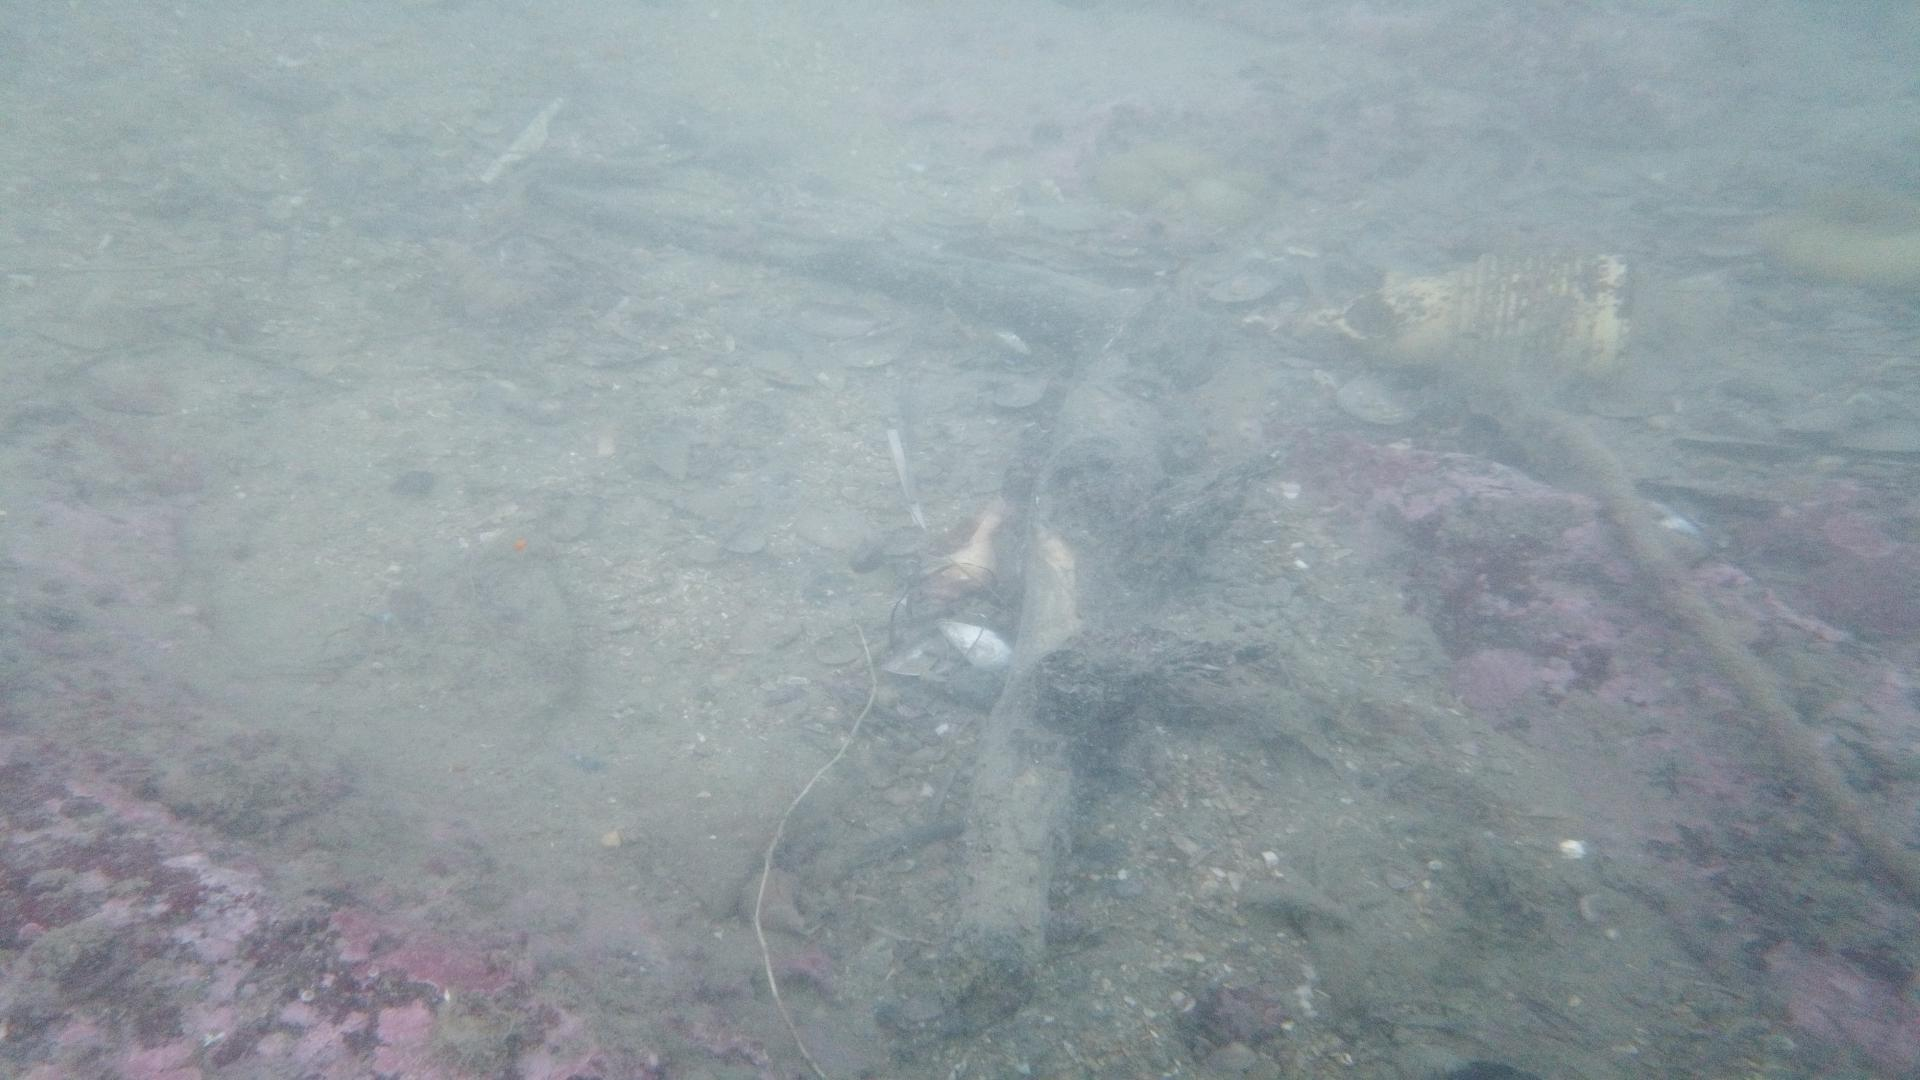rope: (1516, 405, 1920, 910)
wood: (537, 183, 1203, 980)
